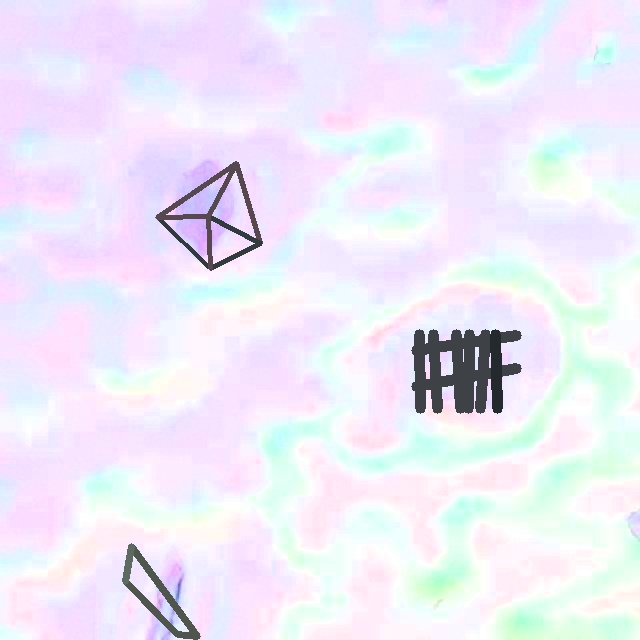close: (412, 329, 520, 413)
open: (155, 161, 262, 270), (122, 543, 200, 637)
